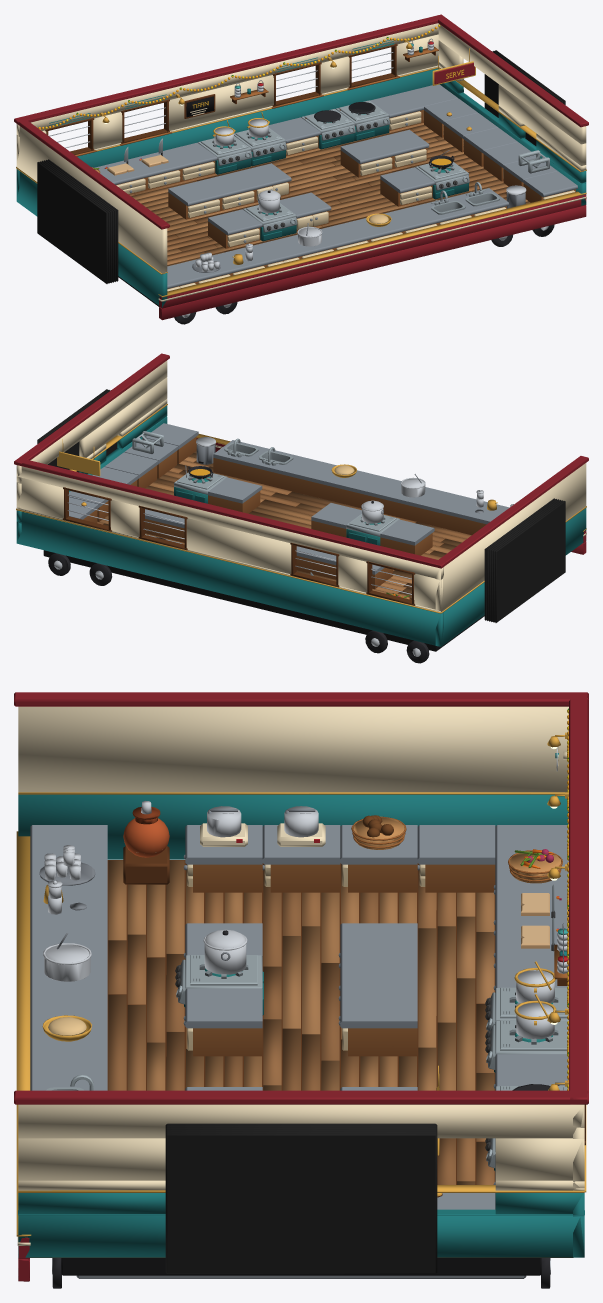
File: kitchen-2.glb
3 views of the same model, one above another, from view 1: azimuth 30°, elevation 25°; view 2: azimuth 150°, elevation 25°; view 3: azimuth 270°, elevation 25° (orthographic). The views are drawn at different scales.
Visible parts, largest first — view 1: kitchen; view 2: kitchen; view 3: kitchen.
Part boxes in pixels (<box>): kitchen: <box>14,14,588,324</box>; kitchen: <box>14,353,588,663</box>; kitchen: <box>14,692,588,1288</box>.
Bounding box in the file's own units: 13.33 × 3.15 × 7.42.
42 materials, 7 textured.
